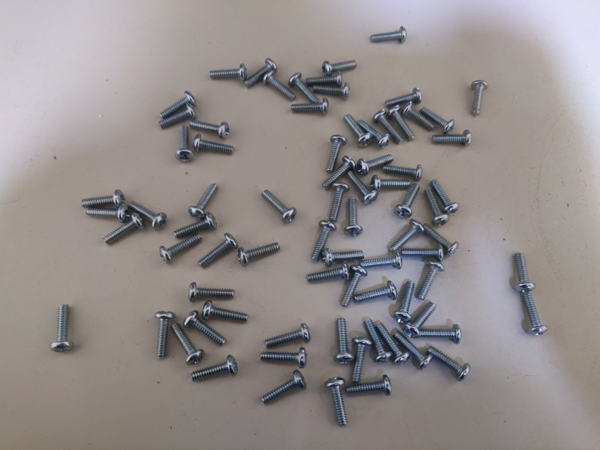shortscrew: (261, 370, 308, 405), (183, 311, 227, 348), (427, 346, 471, 383), (171, 321, 205, 365), (394, 333, 433, 371), (103, 212, 146, 246), (198, 233, 238, 268), (378, 324, 411, 366), (192, 354, 238, 383), (160, 233, 203, 264), (364, 319, 393, 364), (403, 302, 438, 339), (423, 224, 460, 259), (521, 292, 549, 337), (324, 377, 348, 427), (262, 190, 297, 224), (417, 260, 446, 301), (173, 213, 217, 240), (265, 324, 311, 349), (129, 201, 167, 231), (189, 182, 218, 221), (51, 304, 74, 353), (322, 157, 356, 190), (342, 265, 368, 308), (348, 170, 379, 206), (431, 179, 460, 217), (237, 242, 281, 267), (158, 102, 196, 130), (159, 91, 197, 119), (153, 311, 175, 359), (345, 375, 393, 397), (263, 70, 297, 101), (202, 301, 249, 323), (334, 317, 356, 364), (260, 348, 309, 369), (289, 72, 320, 105), (344, 114, 373, 149), (375, 110, 404, 145), (388, 105, 416, 141), (420, 107, 456, 135), (312, 221, 337, 261), (357, 119, 390, 149), (394, 281, 417, 324), (352, 337, 373, 384), (394, 184, 421, 220), (353, 281, 397, 303), (245, 59, 278, 88), (402, 102, 435, 131), (189, 283, 236, 303), (426, 188, 450, 226), (193, 135, 235, 156), (514, 253, 536, 293), (306, 263, 350, 283), (325, 136, 348, 174), (81, 190, 126, 209), (86, 203, 130, 222), (421, 325, 462, 345), (175, 125, 196, 164), (329, 182, 350, 221), (360, 252, 403, 271), (322, 248, 365, 267), (190, 120, 230, 140), (344, 198, 364, 237), (357, 156, 395, 176), (370, 26, 408, 45), (470, 81, 490, 117), (290, 98, 330, 116), (313, 82, 350, 101), (433, 129, 471, 147), (383, 164, 423, 181), (402, 245, 444, 261), (370, 176, 412, 192), (209, 64, 248, 81), (385, 88, 424, 105), (323, 60, 358, 76), (306, 72, 344, 86)
